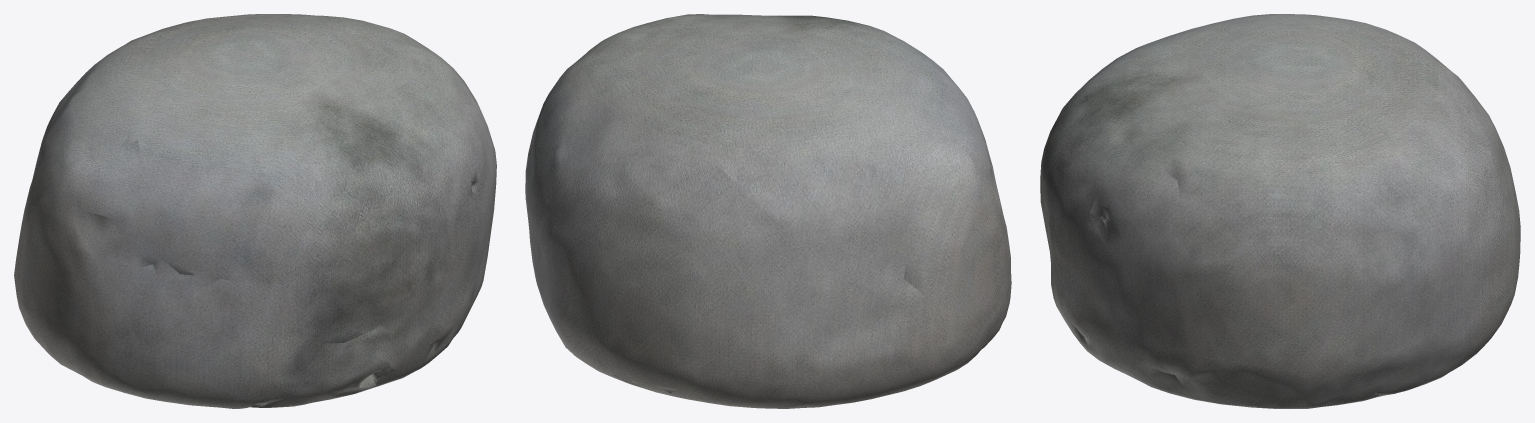
The model's file is rock-r4.glb.
The picture shows the model from 3 angles, left to right: view 1: azimuth 30°, elevation 25°; view 2: azimuth 150°, elevation 25°; view 3: azimuth 270°, elevation 25°; orthographic projection.
Visible parts, largest first — view 1: Mesh; view 2: Mesh; view 3: Mesh.
Part boxes in pixels (box(x1,y1,x2,y2)): Mesh: box(14, 14, 496, 408); Mesh: box(525, 14, 1011, 408); Mesh: box(1040, 14, 1520, 408).
Size of the model in its own units: 1.89 by 1.11 by 1.83.
1 material, 1 textured.
